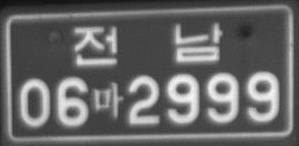0: (19, 76, 51, 127)
2: (127, 73, 160, 124)
6: (57, 76, 89, 127)
9: (246, 70, 280, 123), (166, 72, 200, 124), (206, 71, 240, 123)
마: (93, 81, 123, 120)
전남_D: (74, 22, 224, 66)
